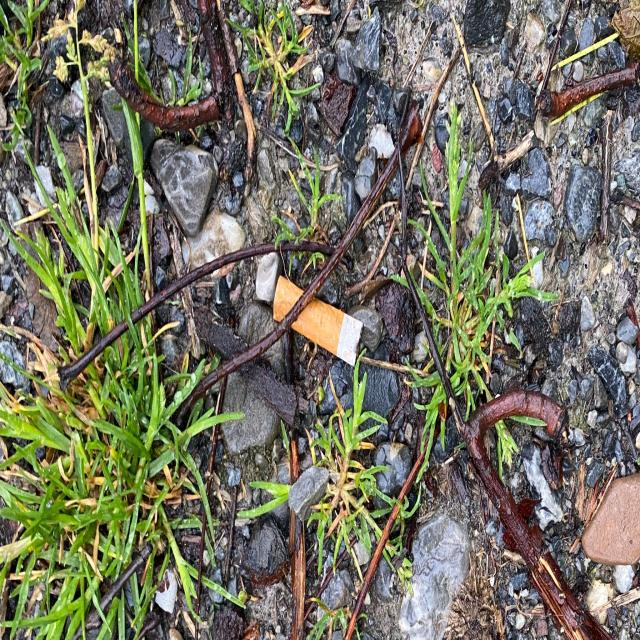other waste: (273, 274, 364, 368)
